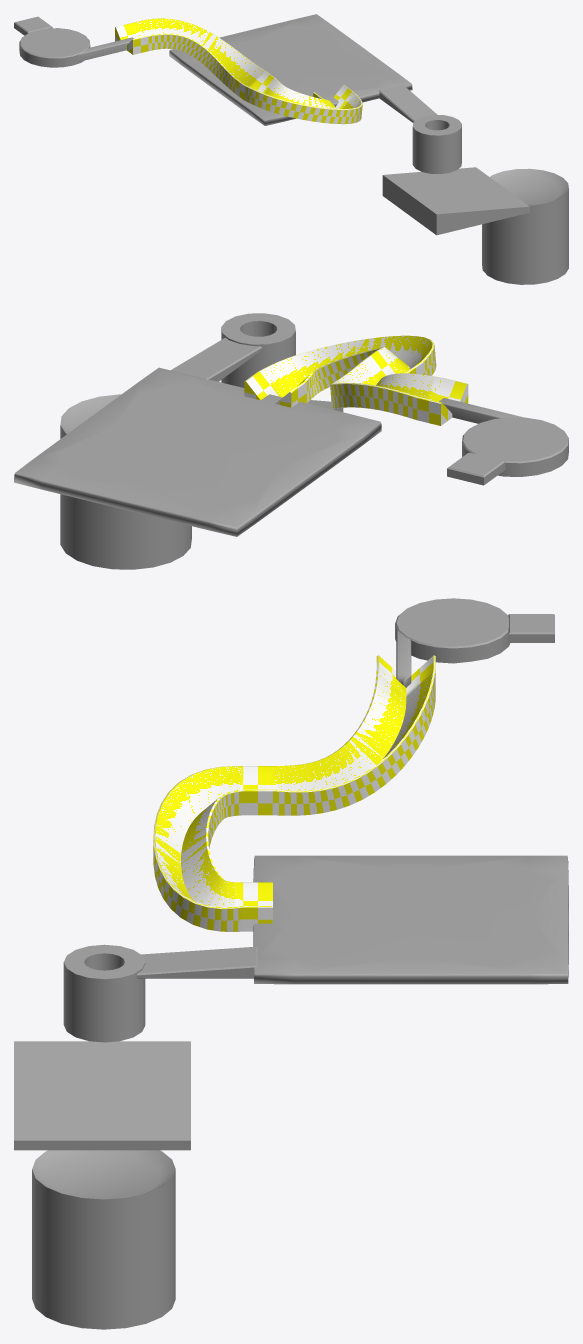
Rendered from map4.fbx.
The picture shows the model from 3 angles, top to bottom: view 1: azimuth 30°, elevation 25°; view 2: azimuth 150°, elevation 25°; view 3: azimuth 270°, elevation 25°; orthographic projection. The views are drawn at different scales.
Parts seen in each view (by area): view 1: polySurface90; view 2: polySurface90; view 3: polySurface90.
Part boxes in pixels (<box>): polySurface90: <box>14,14,568,284</box>; polySurface90: <box>14,313,568,569</box>; polySurface90: <box>14,598,568,1329</box>.
Size of the model in its own units: 55.37 by 29.54 by 37.46.
2 materials, 1 textured.
